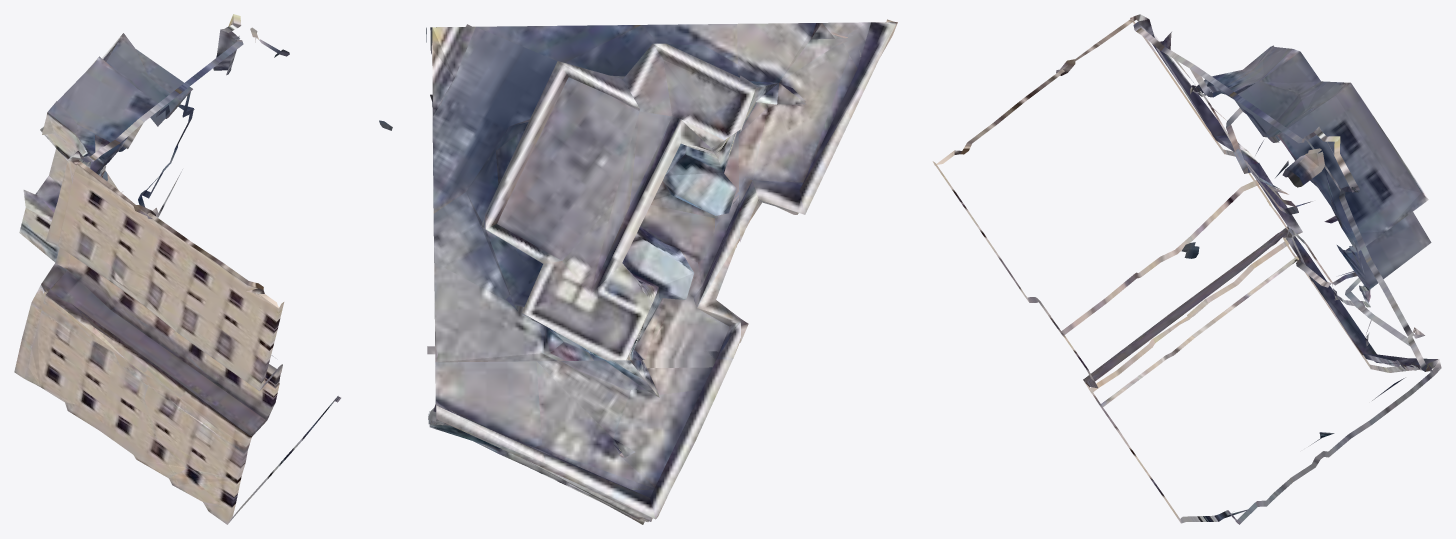
The picture shows the model from 3 angles, left to right: view 1: azimuth 30°, elevation 25°; view 2: azimuth 150°, elevation 25°; view 3: azimuth 270°, elevation 25°; orthographic projection. The views are drawn at different scales.
Bounding box in the file's own units: 28.9 × 34.93 × 36.73.
1 material, 1 textured.
